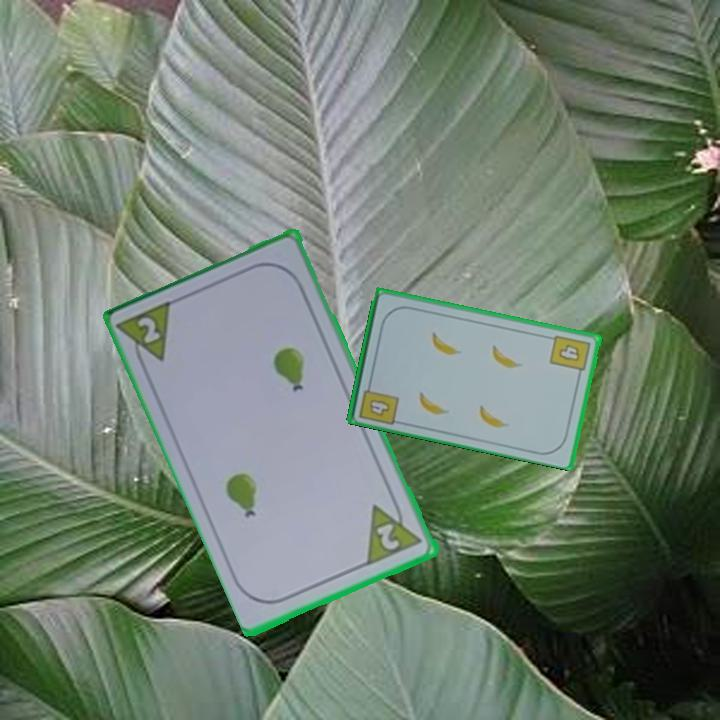2p: (115, 296, 177, 374), (373, 520, 404, 554)
4b: (355, 377, 402, 427), (547, 331, 594, 380)
